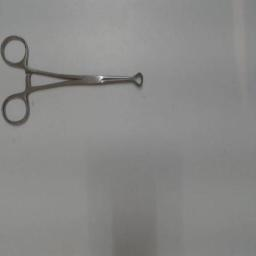Babcock Tissue Forceps: (0, 30, 148, 126)
